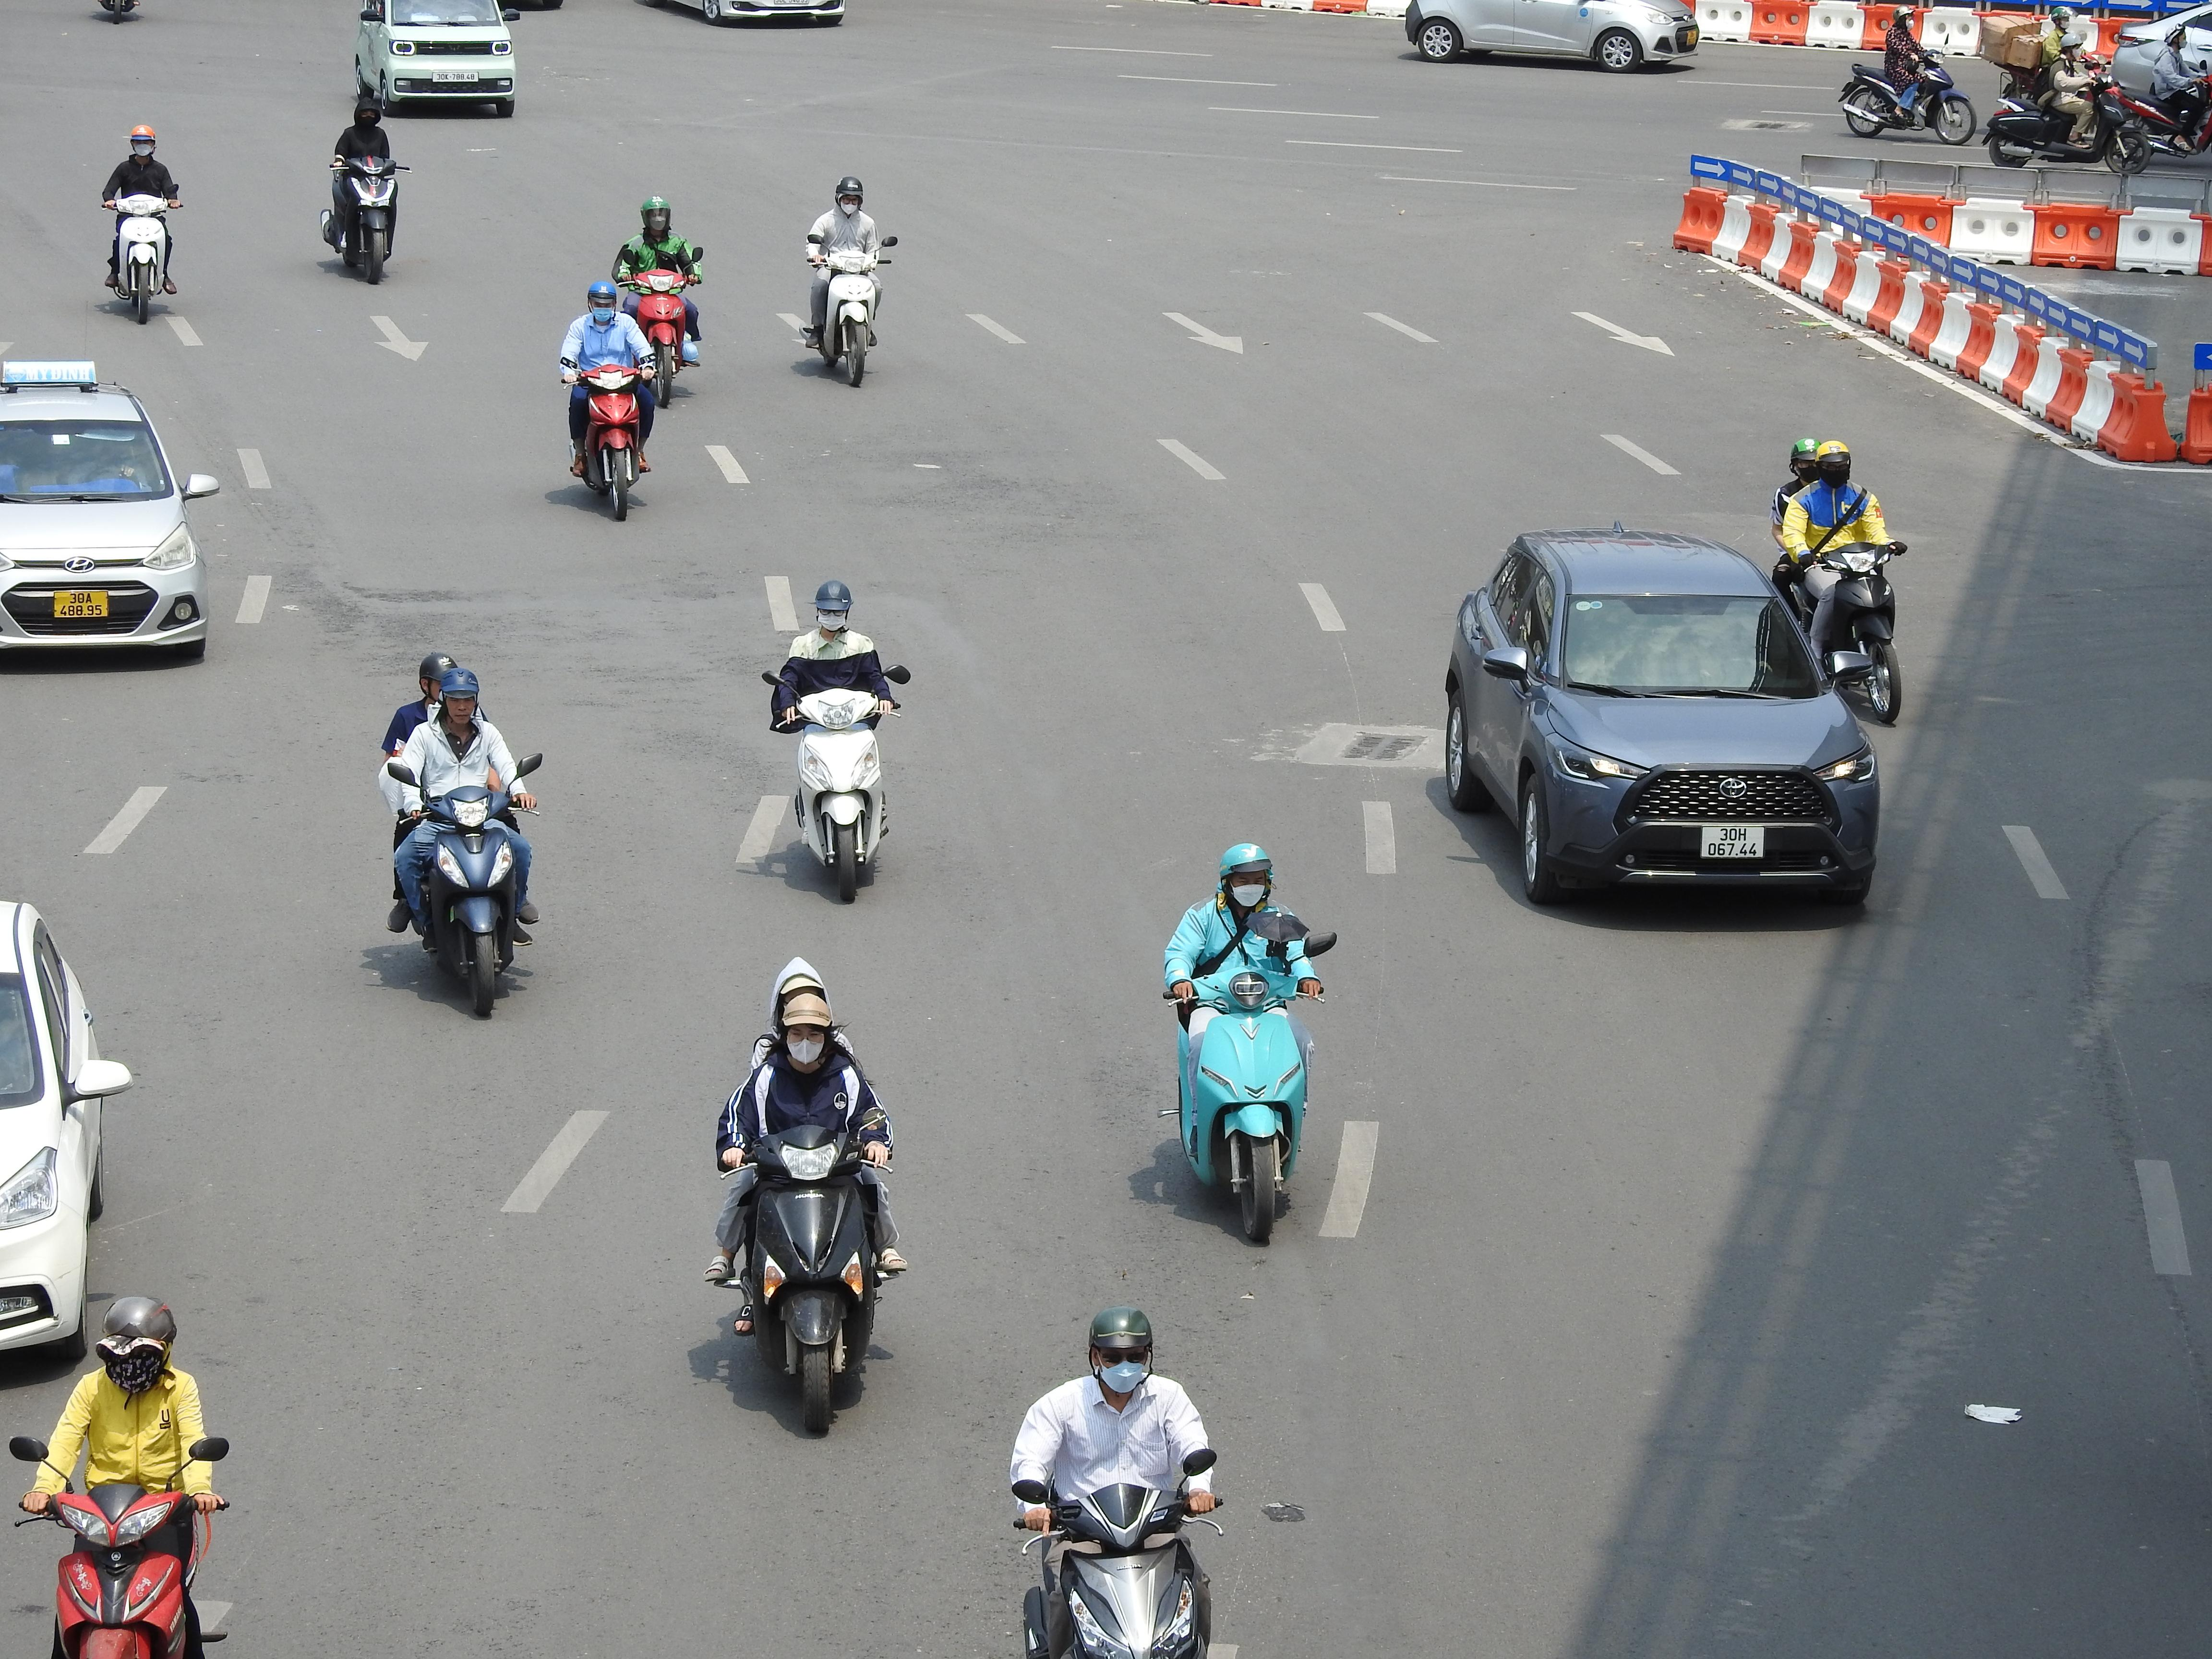BSD: (434, 71, 479, 82)
BSV: (1702, 826, 1763, 859), (52, 591, 110, 619)
car: (1439, 523, 1885, 910), (0, 359, 218, 669), (0, 892, 132, 1370), (1400, 0, 1700, 73), (354, 0, 517, 117)
motorbike: (709, 958, 904, 1439), (10, 1293, 232, 1659), (1008, 1303, 1224, 1659), (1163, 840, 1332, 1248), (381, 653, 542, 1019), (766, 579, 904, 906), (1770, 437, 1907, 727), (559, 277, 657, 521), (1984, 26, 2148, 171), (799, 174, 894, 387), (613, 195, 702, 406), (1839, 9, 1973, 143), (322, 96, 408, 286), (103, 125, 181, 324), (2121, 24, 2212, 162)
